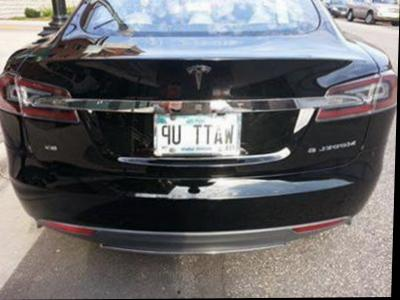License_Plate: (153, 107, 242, 157)
